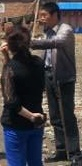boots: (48, 151, 67, 161), (25, 159, 49, 166)
